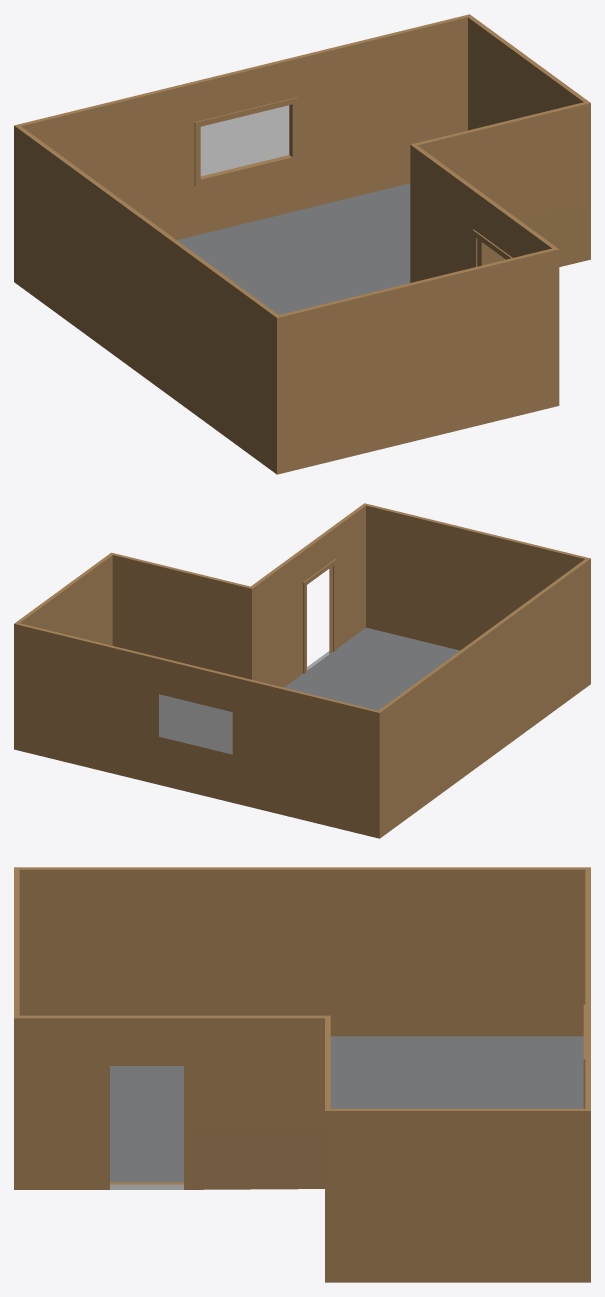
File: Ruum.fbx
3 renders of one model, top to bottom at view 1: azimuth 30°, elevation 25°; view 2: azimuth 150°, elevation 25°; view 3: azimuth 270°, elevation 25°, orthographic. The views are drawn at different scales.
Parts seen in each view (by area): view 1: ruum; view 2: ruum; view 3: ruum.
Boxes of the visible parts, bbox=[...] form: ruum: bbox=[14, 14, 590, 474]; ruum: bbox=[14, 503, 590, 838]; ruum: bbox=[14, 867, 590, 1282].
Bounding box in the file's own units: 8160 × 2680 × 8160.
